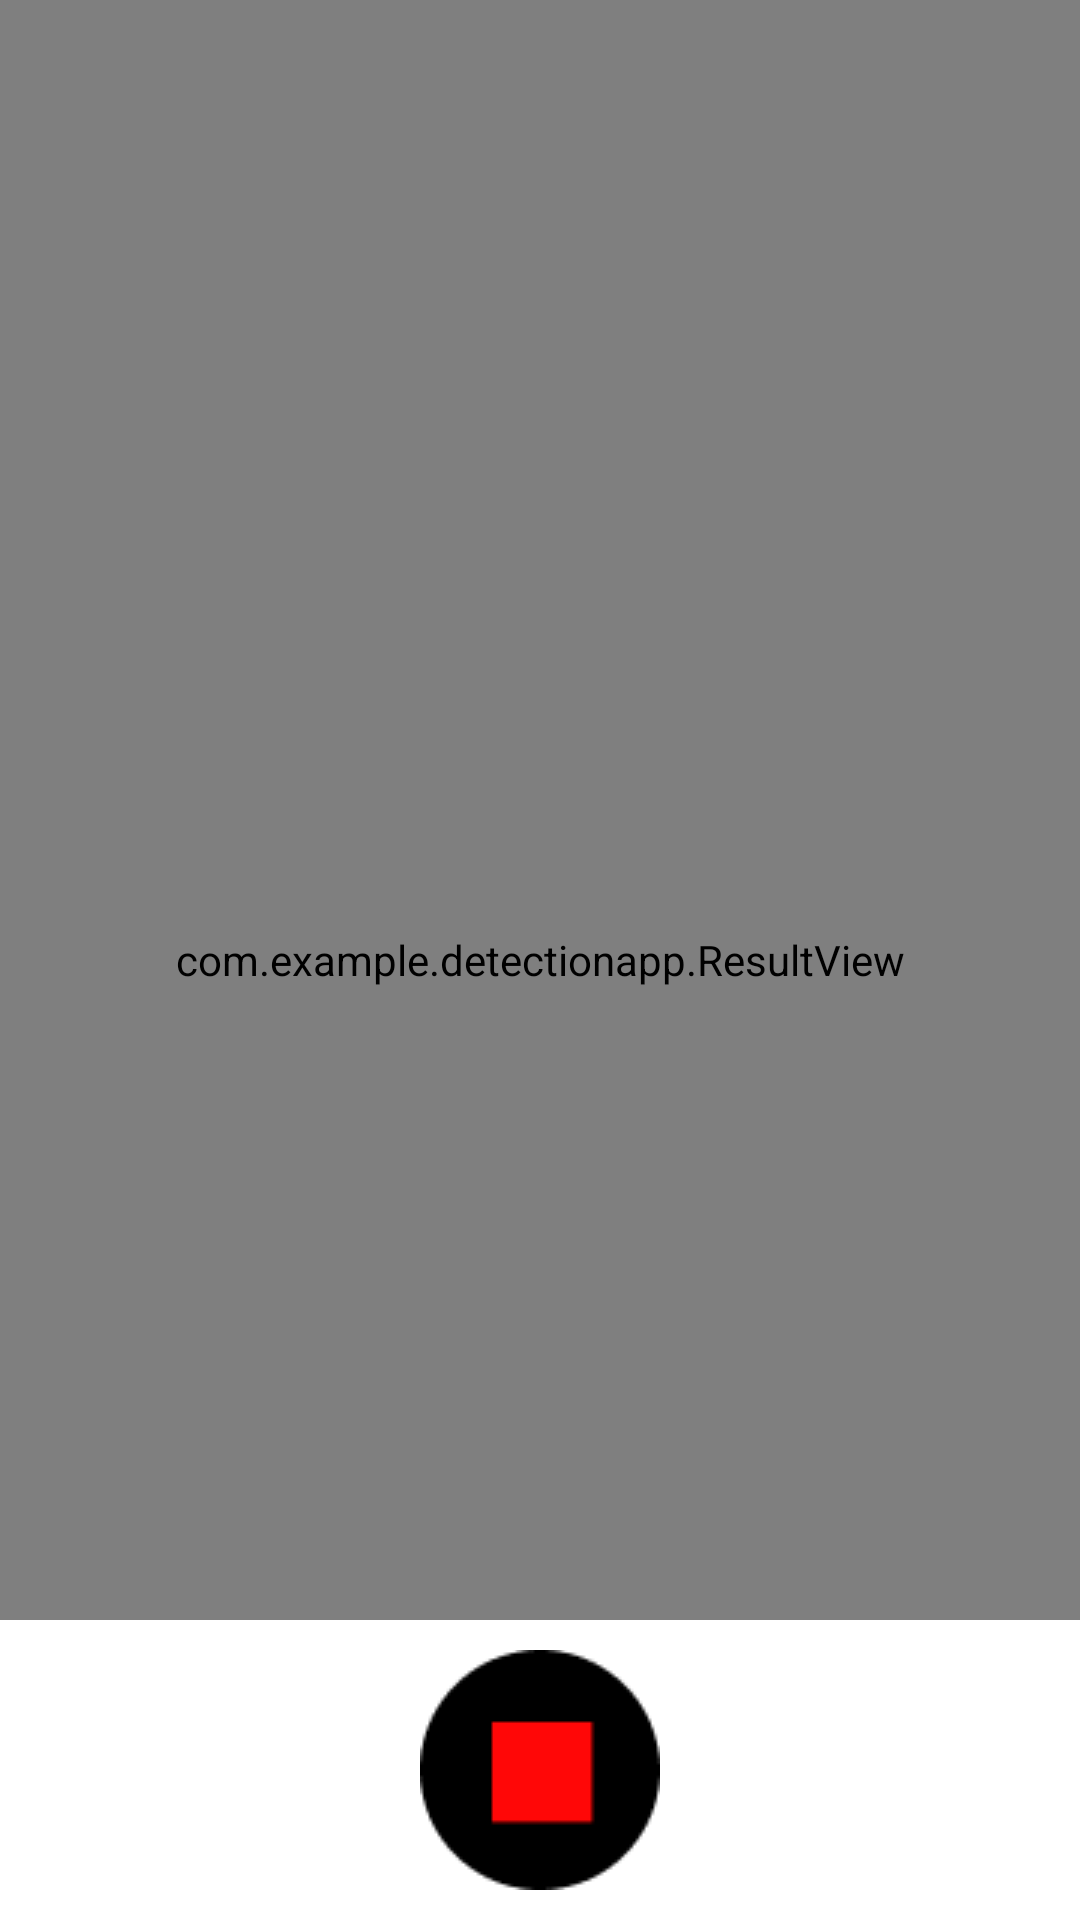

Icon click points for this 1080 x 1920 phone screenshot, format [x,y]:
stop: [540,1770]
